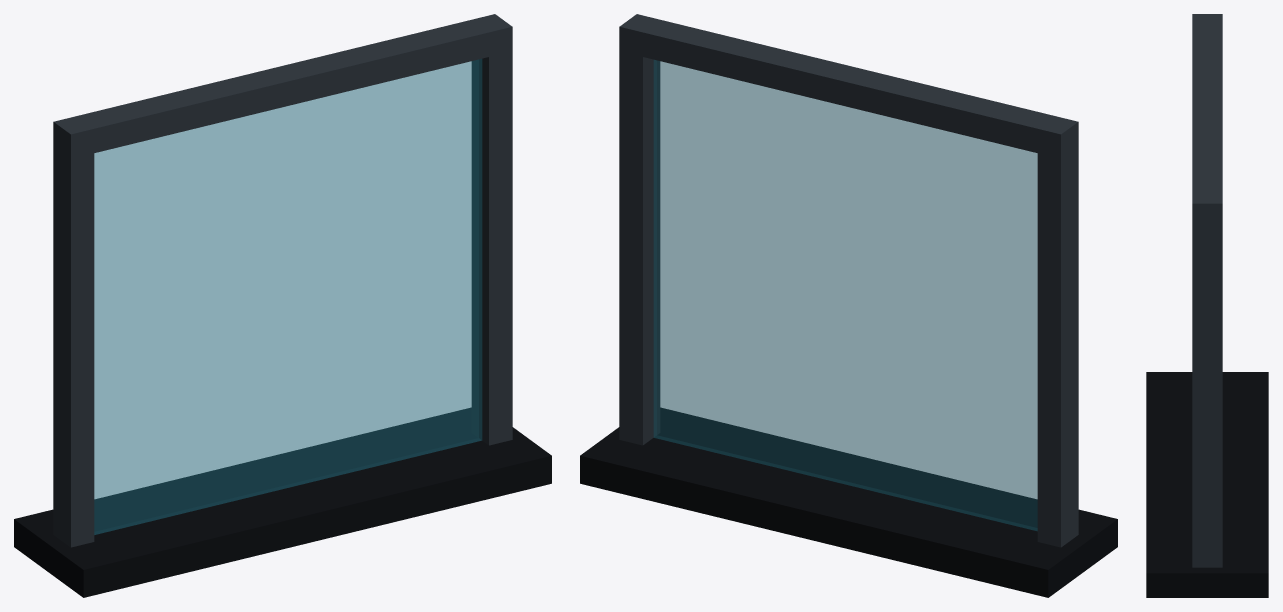
File: nf_glass_panel.obj
3 views of the same model, side by side, from view 1: azimuth 30°, elevation 25°; view 2: azimuth 150°, elevation 25°; view 3: azimuth 270°, elevation 25° (orthographic). The views are drawn at different scales.
Parts seen in each view (by area): view 1: pane, base, top, left_post, right_post; view 2: pane, base, top, left_post, right_post; view 3: base, right_post, top.
Boxes of the visible parts, x1,y1,x2,y2 form: pane: (94, 59, 482, 534); base: (14, 407, 551, 597); top: (53, 14, 512, 158); left_post: (53, 125, 94, 547); right_post: (471, 32, 512, 445); pane: (653, 60, 1037, 530); base: (580, 407, 1117, 597); top: (619, 14, 1078, 158); left_post: (1037, 125, 1078, 547); right_post: (619, 37, 660, 445); base: (1146, 372, 1268, 597); right_post: (1192, 207, 1222, 567); top: (1192, 14, 1222, 224).
Size of the model in its own units: 2.8 by 2.52 by 0.72.
